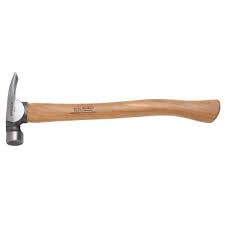hammer: (5, 71, 221, 146)
